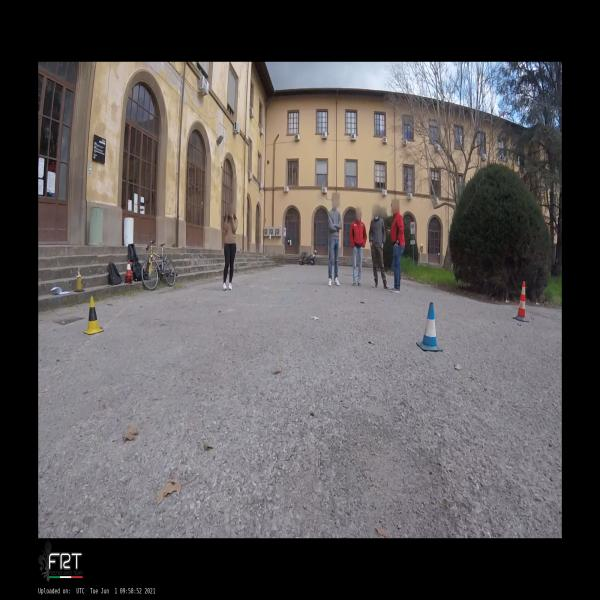blue_cone: (416, 301, 443, 351)
large_orange_cone: (513, 282, 529, 322)
orange_cone: (126, 260, 132, 276)
unknown_cone: (73, 274, 85, 292)
yellow_cone: (84, 296, 103, 334)
